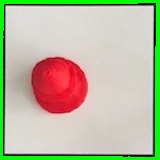Red Bishop: (28, 55, 90, 116)
